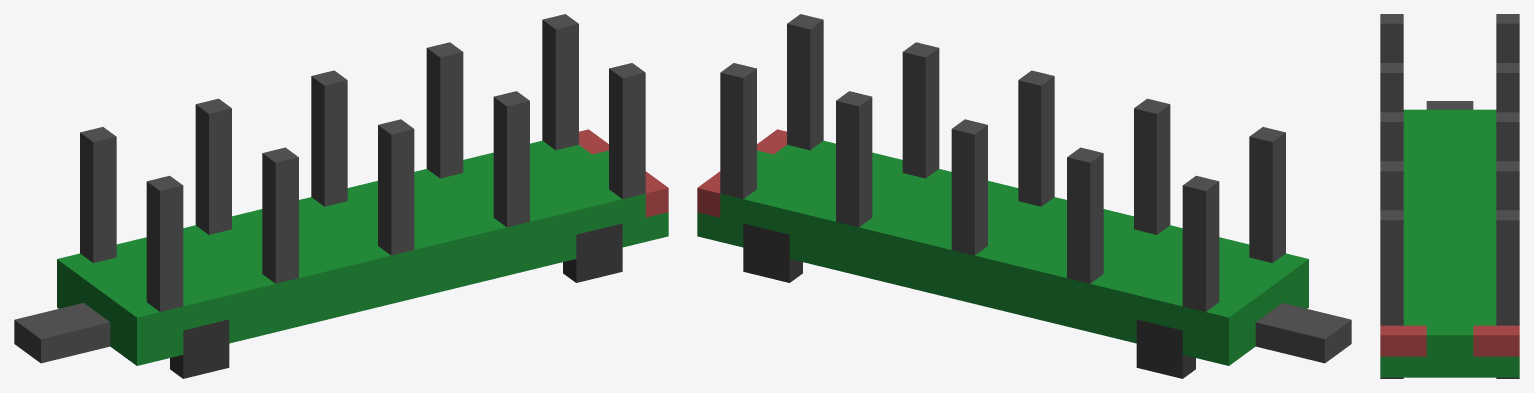
File: truck-trailer-v4-green.gltf
The picture shows the model from 3 angles, left to right: view 1: azimuth 30°, elevation 25°; view 2: azimuth 150°, elevation 25°; view 3: azimuth 270°, elevation 25°; orthographic projection. The views are drawn at different scales.
Parts seen in each view (by area): view 1: model, wheels; view 2: model, wheels; view 3: model.
Part boxes in pixels (x1,y1,x2,y2): model: (14, 14, 668, 365); wheels: (170, 223, 622, 378); model: (697, 14, 1351, 365); wheels: (743, 223, 1195, 378); model: (1380, 14, 1519, 377).
Size of the model in its own units: 2.6 by 0.8 by 0.6.
Materials: 2 (2 with a texture image).
